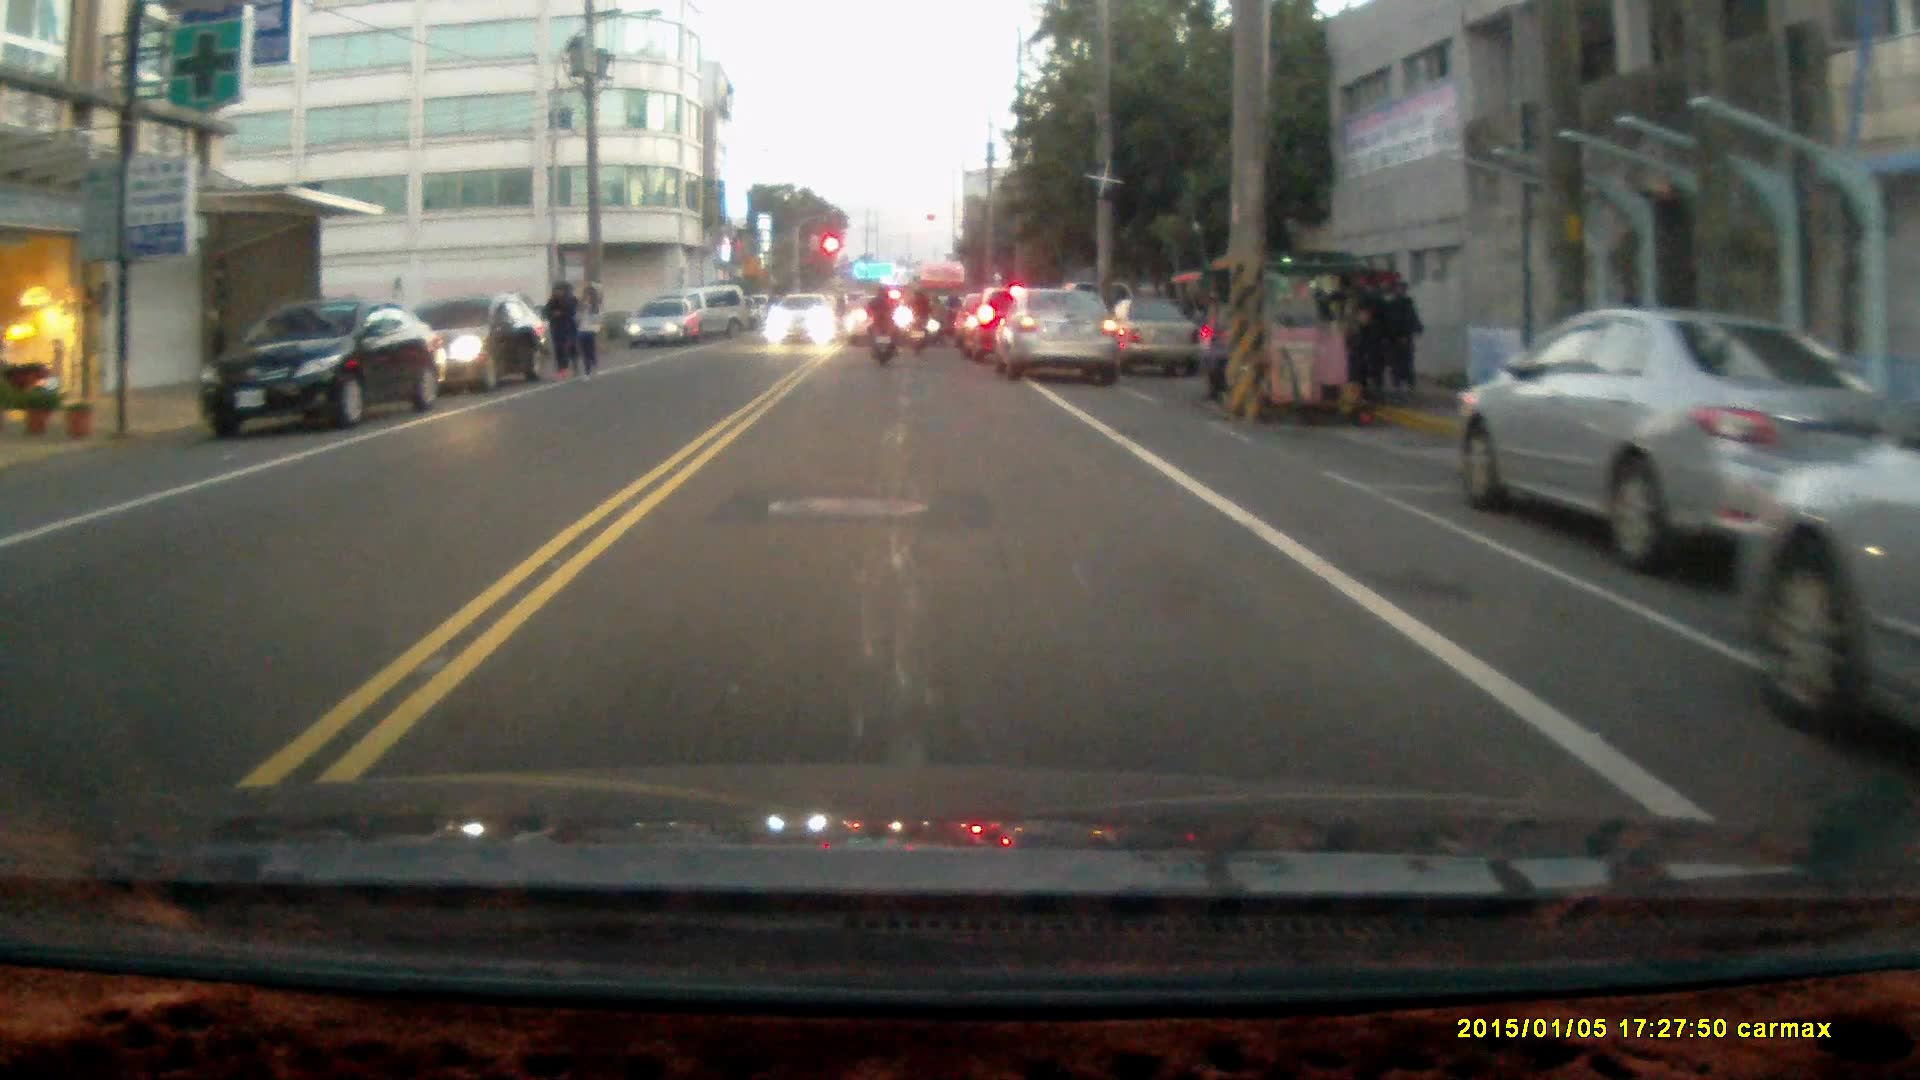pedestrian: (1383, 277, 1425, 398), (543, 278, 582, 382), (575, 284, 602, 382)
rider: (864, 282, 898, 368), (902, 287, 933, 359)
vehicle: (1452, 309, 1905, 573), (1738, 395, 1920, 745), (1196, 254, 1413, 422), (201, 294, 443, 436), (411, 298, 557, 400), (1000, 287, 1127, 386), (770, 292, 844, 349), (631, 298, 712, 350)
